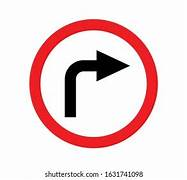right: (28, 18, 158, 149)
